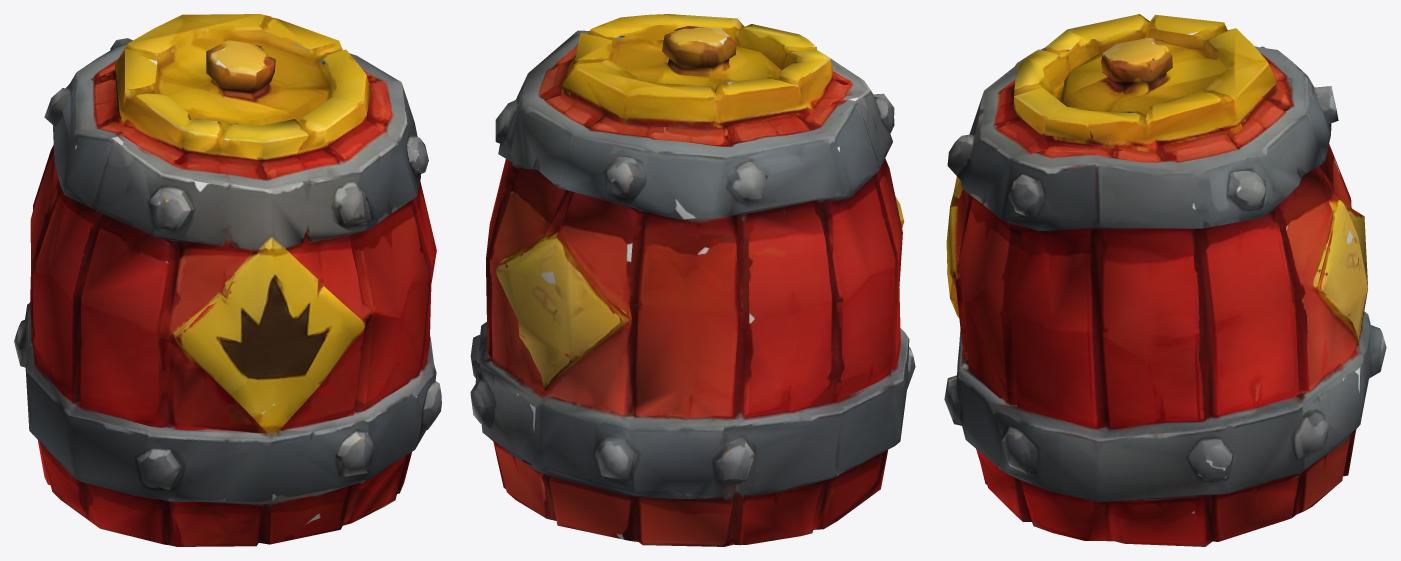
Rendered from dec_barrel_x.glb.
The picture shows the model from 3 angles, left to right: view 1: azimuth 30°, elevation 25°; view 2: azimuth 150°, elevation 25°; view 3: azimuth 270°, elevation 25°; orthographic projection. The views are drawn at different scales.
Visible parts, largest first — view 1: BakeLow; view 2: BakeLow; view 3: BakeLow.
Boxes of the visible parts, x1,y1,x2,y2 form: BakeLow: [14, 14, 441, 546]; BakeLow: [470, 14, 915, 546]; BakeLow: [944, 14, 1386, 546].
Size of the model in its own units: 0.7094 by 0.8184 by 0.7405.
1 material, 1 textured.
